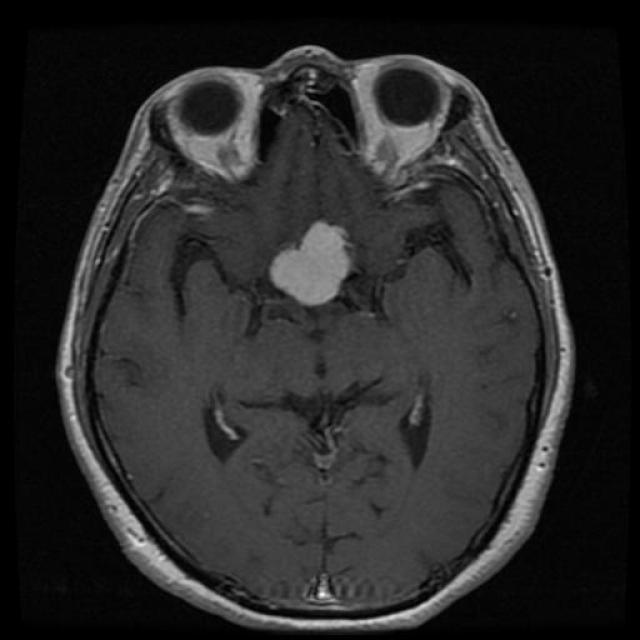Brain-Tumor: (258, 210, 371, 317)
eye: (149, 55, 269, 207), (354, 47, 459, 208)
